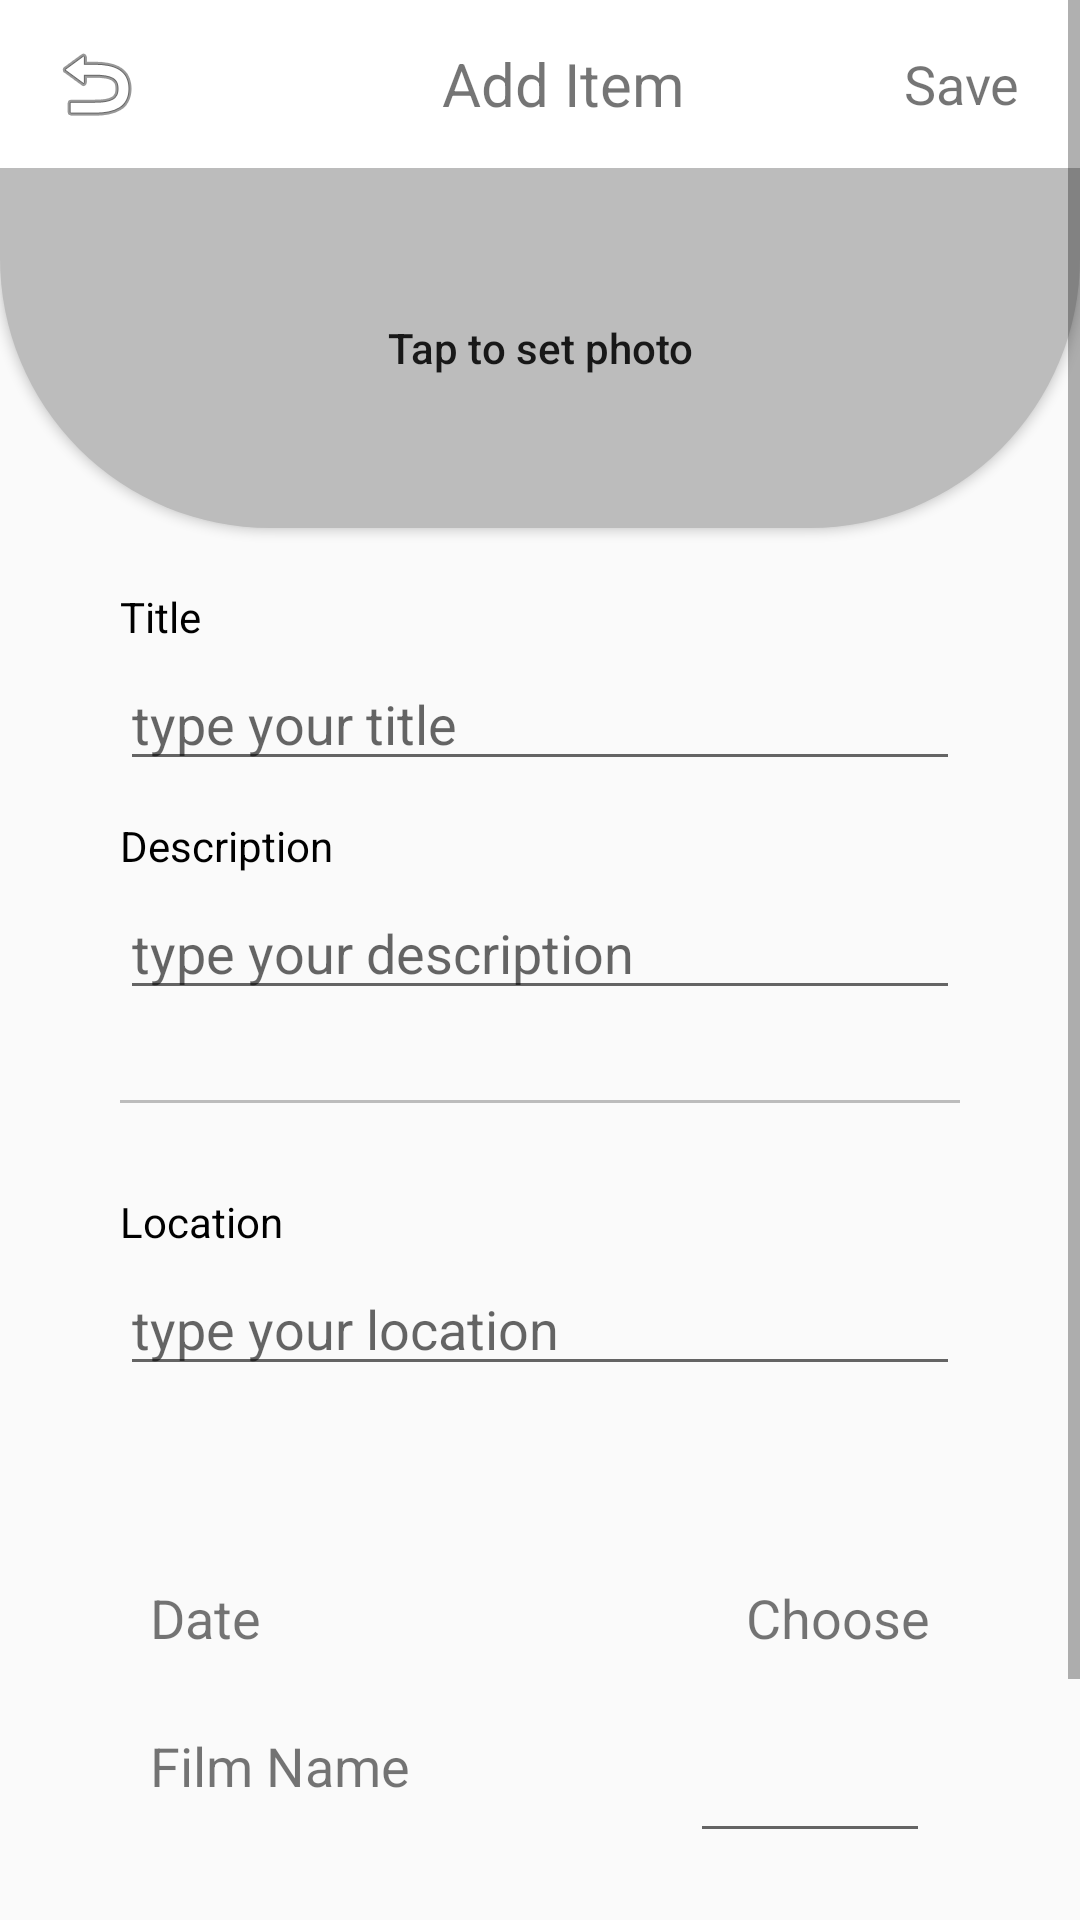

Icons on this 1080 x 1920 Android screen, each with its box as region(x1, y1, x2, y2):
revert: region(63, 53, 132, 116)
